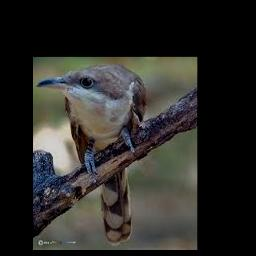Cuckoo: (35, 63, 147, 242)
